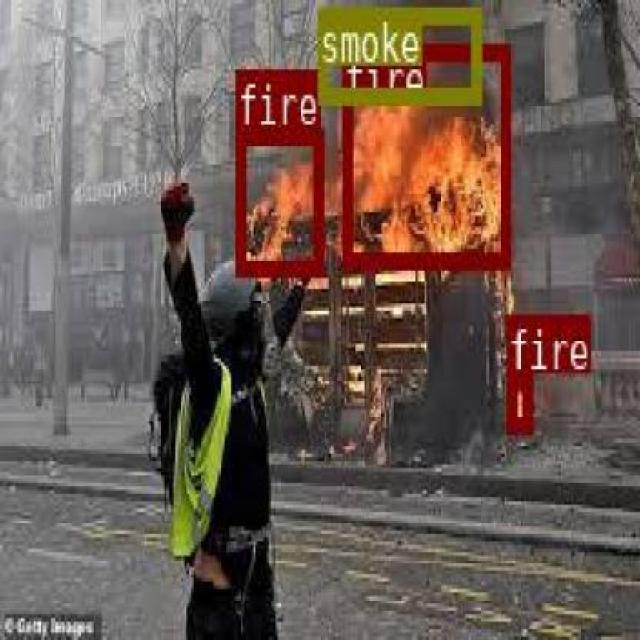Fire: (341, 41, 507, 266), (233, 126, 322, 271), (504, 372, 530, 430)
Smoke: (316, 5, 478, 100)
